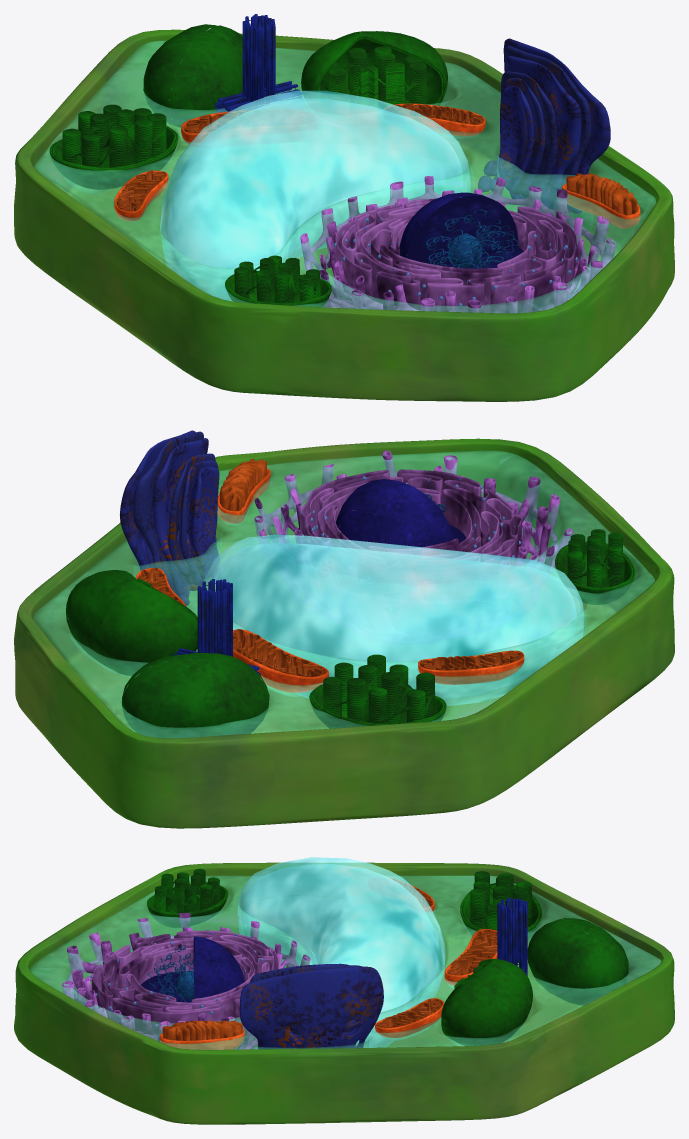
The model's file is plant_cell.glb.
The picture shows the model from 3 angles, top to bottom: view 1: azimuth 30°, elevation 25°; view 2: azimuth 150°, elevation 25°; view 3: azimuth 270°, elevation 25°; orthographic projection. The views are drawn at different scales.
Parts seen in each view (by area): view 1: cell_wall, vacuole, cytoplasm, chloroplast, rer, golgi_apparatus, ser, mitochondria, nucleus, centrosome; view 2: cell_wall, vacuole, cytoplasm, chloroplast, golgi_apparatus, rer, mitochondria, nucleus, ser, centrosome; view 3: cell_wall, vacuole, cytoplasm, chloroplast, golgi_apparatus, rer, mitochondria, ser, nucleus, centrosome.
Boxes of the visible parts, x1,y1,x2,y2 form: cell_wall: (14, 29, 674, 401); vacuole: (160, 90, 470, 301); cytoplasm: (35, 41, 655, 312); chloroplast: (49, 24, 447, 307); rer: (333, 198, 577, 313); golgi_apparatus: (478, 38, 610, 213); ser: (300, 176, 616, 313); mitochondria: (114, 103, 640, 228); nucleus: (399, 192, 523, 268); centrosome: (214, 14, 302, 113); cell_wall: (14, 438, 674, 828); vacuole: (202, 534, 584, 705); cytoplasm: (33, 451, 654, 737); chloroplast: (66, 529, 635, 738); golgi_apparatus: (120, 430, 219, 605); rer: (299, 469, 522, 565); mitochondria: (135, 458, 524, 692); nucleus: (335, 479, 465, 548); ser: (254, 450, 573, 573); centrosome: (173, 579, 260, 675); cell_wall: (14, 862, 674, 1124); vacuole: (238, 857, 445, 1047); cytoplasm: (30, 876, 660, 1049); chloroplast: (147, 868, 628, 1045); golgi_apparatus: (239, 963, 383, 1049); rer: (90, 930, 278, 1049); mitochondria: (160, 878, 497, 1049); ser: (62, 912, 310, 1049); nucleus: (141, 936, 244, 1002); centrosome: (497, 897, 527, 975).
Size of the model in its own units: 5.53 by 1.9 by 7.96.
Materials: 24 (24 with a texture image).
